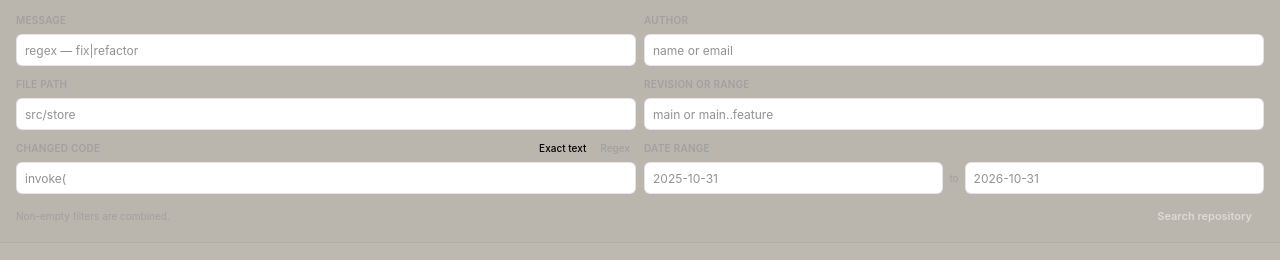
AdvancedHistorySearch filter chips › holds the invalid flag while typing and raises it on blur
Step 1. Type "22" into the field named "Committed after" → coordinates (794, 178), box [644,162,943,194]
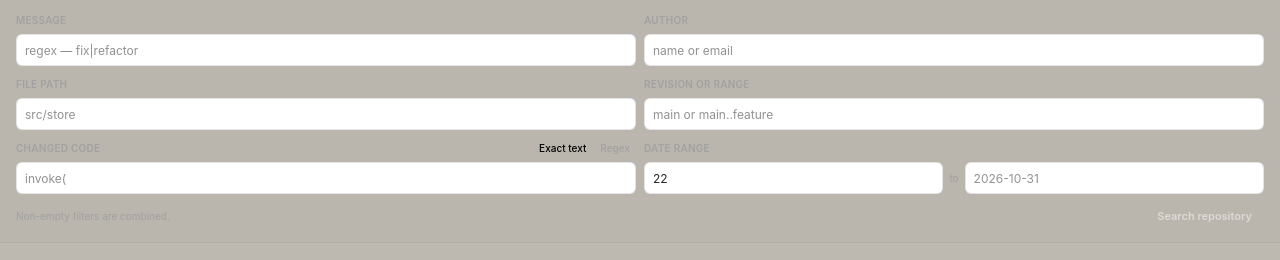
Expected: the text "Dates must be" is not shown
Expected: the button "Search repository" is disabled, [1145,202,1264,230]
Step 2. Leave the field named "Committed after", box [644,162,943,194]
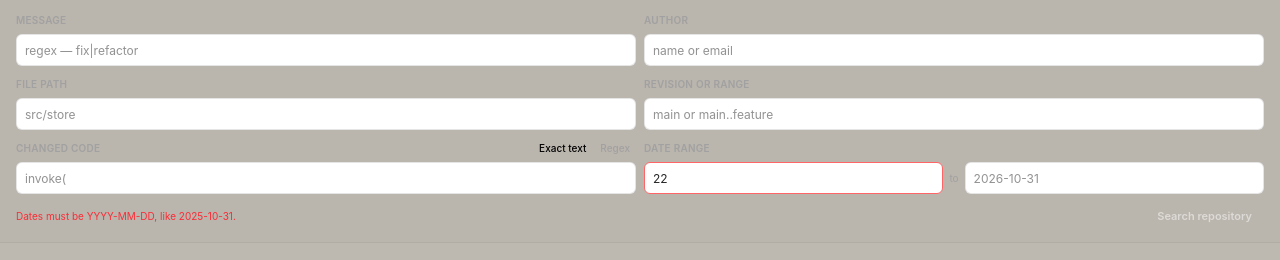
Result: the text "Dates must be YYYY-MM-DD, like 2025-10-31." is shown at [16,208,236,224]
